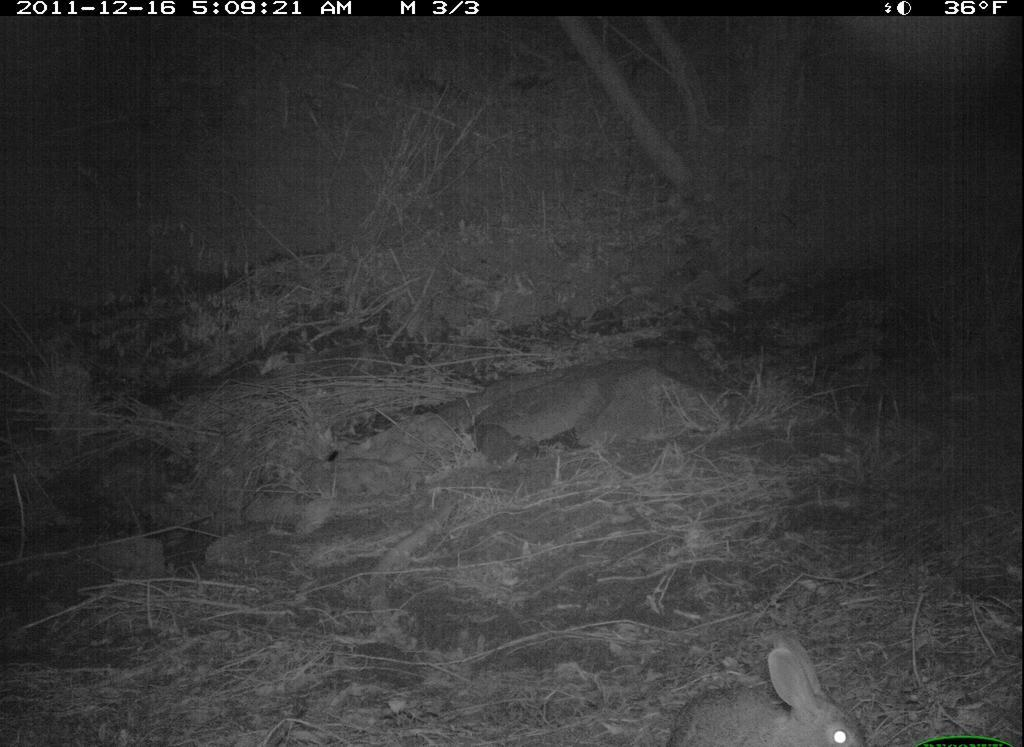rabbit: (661, 626, 877, 745)
